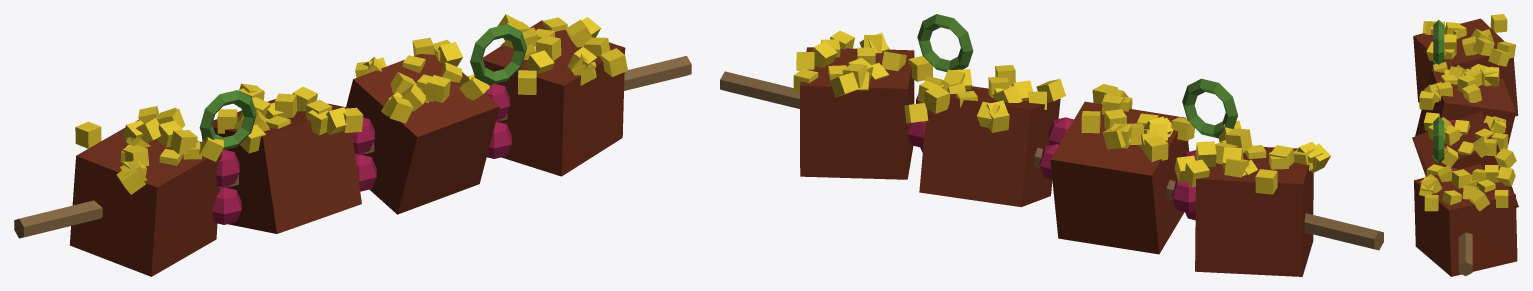
The model's file is VFP_Secret_SulphurSkewer.obj.
The picture shows the model from 3 angles, left to right: view 1: azimuth 30°, elevation 25°; view 2: azimuth 150°, elevation 25°; view 3: azimuth 270°, elevation 25°; orthographic projection. The views are drawn at different scales.
Visible parts, largest first — view 1: Meat, Sulfur, Berries, Fern, Stick; view 2: Meat, Sulfur, Stick, Fern, Berries; view 3: Meat, Sulfur, Fern, Stick.
Boxes of the visible parts, x1=… form: Meat: x1=69, y1=20, x2=625, y2=276; Sulfur: x1=75, y1=14, x2=627, y2=194; Berries: x1=212, y1=84, x2=511, y2=224; Fern: x1=199, y1=24, x2=526, y2=150; Stick: x1=14, y1=56, x2=691, y2=238; Meat: x1=800, y1=47, x2=1313, y2=276; Sulfur: x1=793, y1=30, x2=1330, y2=194; Stick: x1=720, y1=71, x2=1383, y2=250; Fern: x1=917, y1=14, x2=1237, y2=138; Berries: x1=908, y1=95, x2=1196, y2=220; Meat: x1=1412, y1=18, x2=1518, y2=276; Sulfur: x1=1419, y1=14, x2=1516, y2=211; Fern: x1=1433, y1=20, x2=1444, y2=163; Stick: x1=1458, y1=232, x2=1472, y2=276.
Bounding box in the file's own units: 0.42 × 0.0966 × 0.0795.
